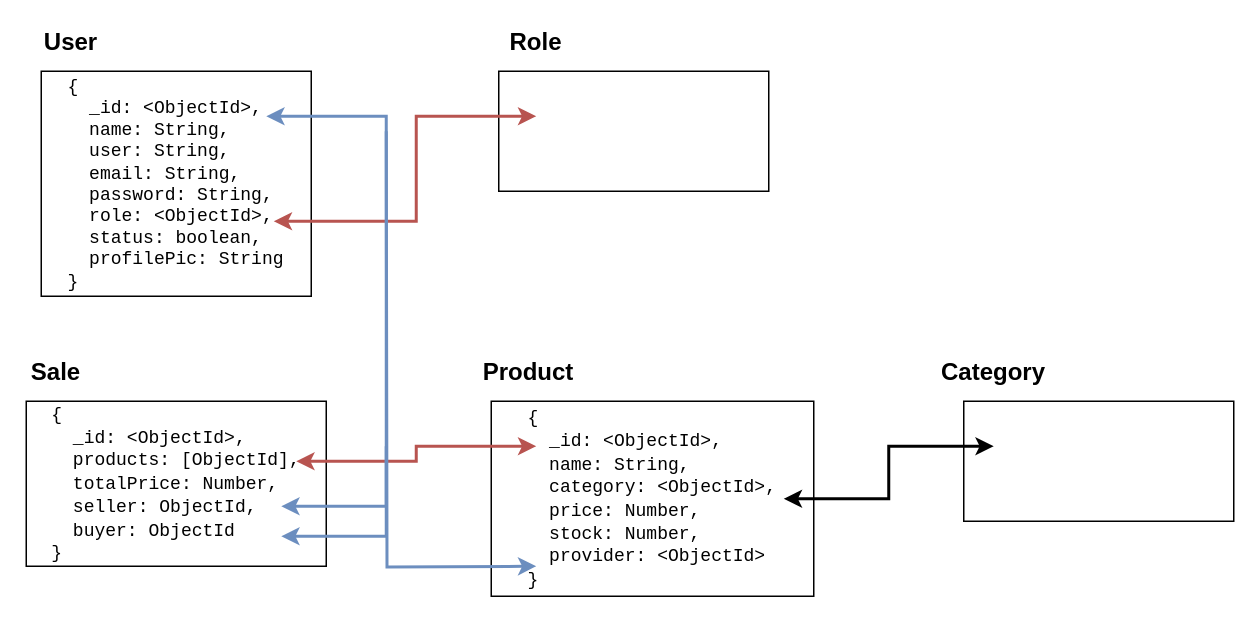
Image size: 1260x623. Some labels were removed from this diagram. The centre of each missing label's shape, as x and y in pixels:
"{ _id: <ObectId>, name: String, description: String, }" goes at point (1098, 460).
"{ _id_ <ObjectId>, name: String, description: String }" goes at point (633, 130).
